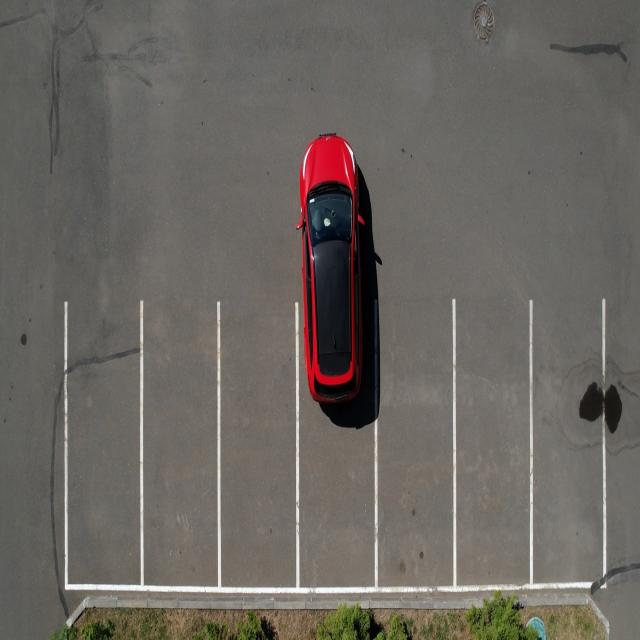space-empty: (450, 297, 536, 586), (139, 302, 222, 590), (218, 302, 300, 590), (63, 302, 144, 588), (376, 298, 456, 586), (296, 308, 377, 588), (531, 300, 604, 588), (0, 300, 68, 596)
